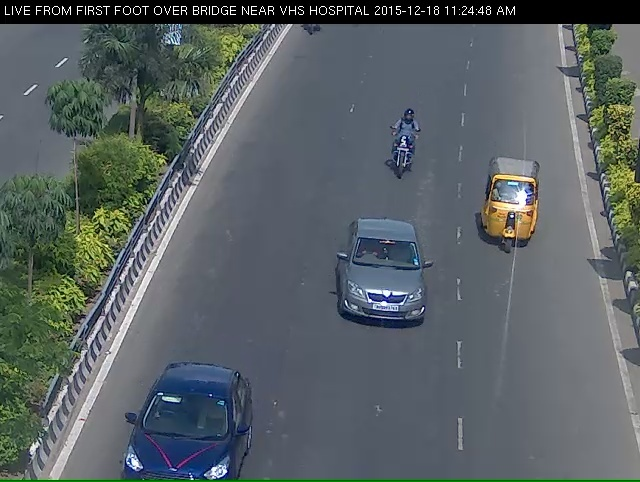Car: (326, 230, 444, 358), (104, 389, 245, 480), (480, 159, 551, 266)
Person: (378, 115, 429, 193)
